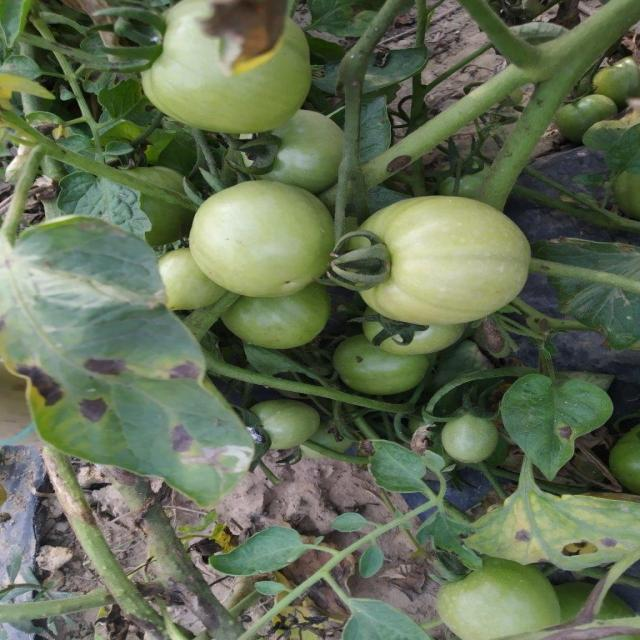Unripe: (357, 194, 527, 322), (189, 179, 338, 302)
